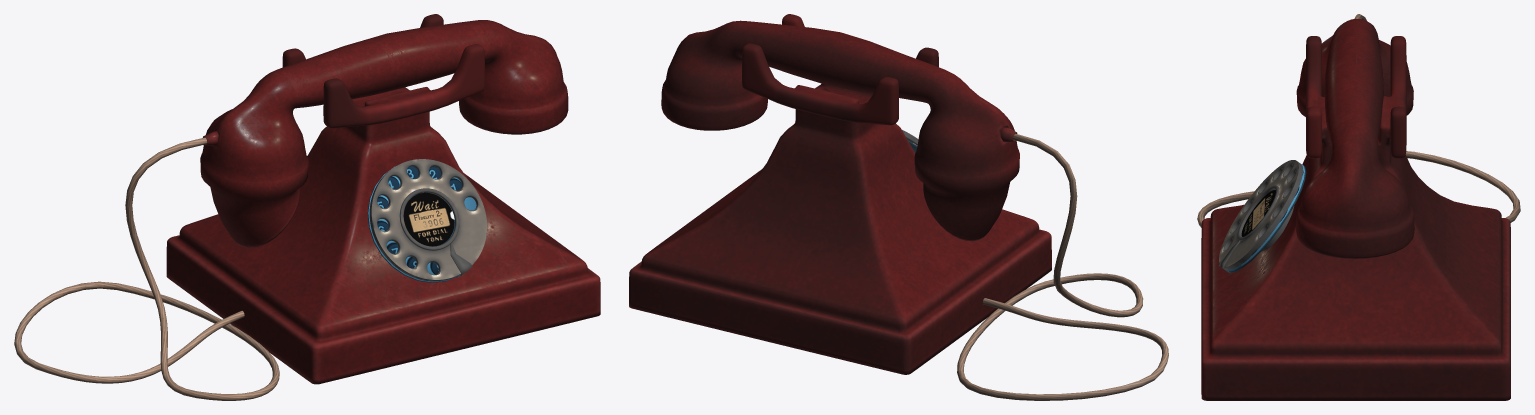
3 renders of one model, left to right at view 1: azimuth 30°, elevation 25°; view 2: azimuth 150°, elevation 25°; view 3: azimuth 270°, elevation 25°, orthographic. The views are drawn at different scales.
Parts seen in each view (by area): view 1: phone; view 2: phone; view 3: phone.
Part boxes in pixels (box(x1,y1,x2,y2)): phone: box(14, 14, 600, 400); phone: box(629, 14, 1168, 400); phone: box(1197, 14, 1520, 400).
Bounding box in the file's own units: 114 × 54.09 × 59.53.
Materials: 1 (1 with a texture image).
